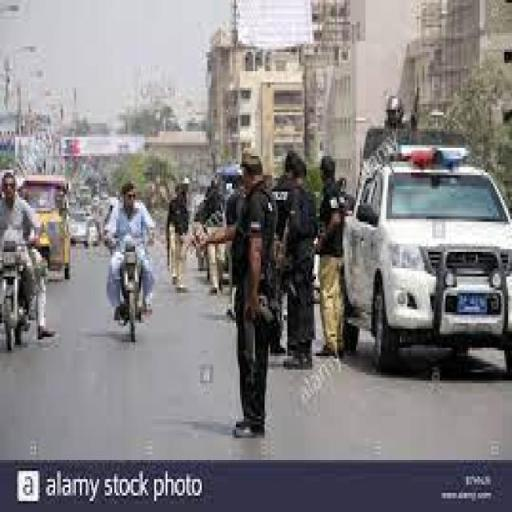Ambulance: (353, 144, 512, 349)
